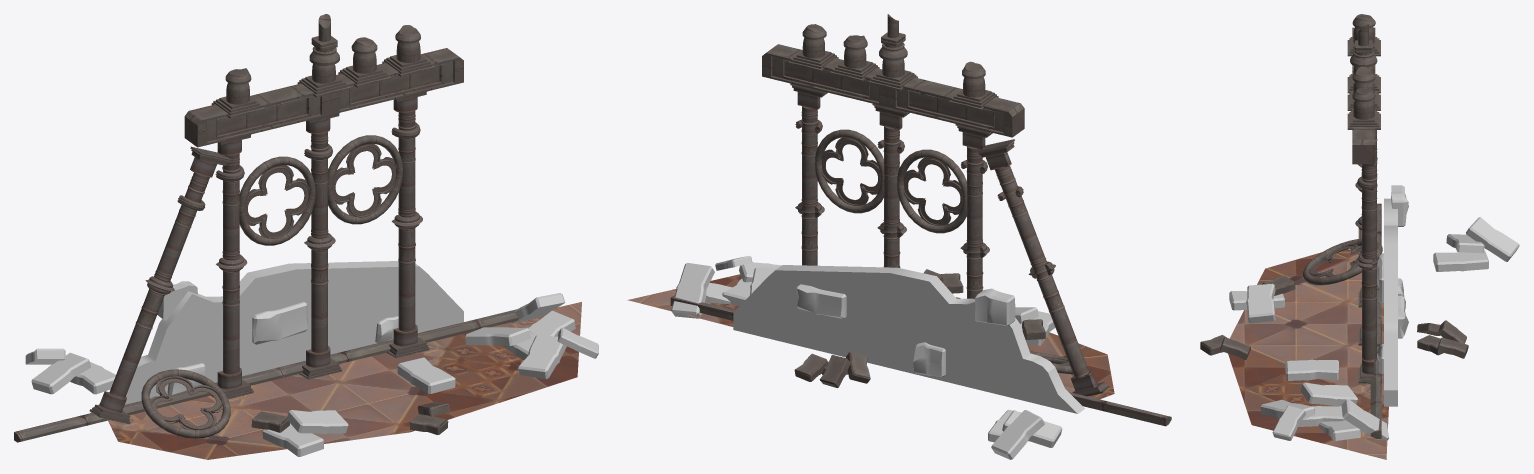
File: ArchitectureSet8.fbx
The picture shows the model from 3 angles, left to right: view 1: azimuth 30°, elevation 25°; view 2: azimuth 150°, elevation 25°; view 3: azimuth 270°, elevation 25°; orthographic projection. The views are drawn at different scales.
Visible parts, largest first — view 1: pPlane6, pasted__pasted__polySurface342, pasted__pasted__pCube131, pasted__pasted__pCylinder56, pasted__pasted__pCylinder55, pasted__pasted__pCylinder53, pasted__pasted__pCube130, pasted__pasted__pCylinder54, pasted__pasted__polySurface355, pasted__pasted__pCube132, pasted__pasted__pCube133, pasted__pasted__pTorus93 (+25 smaller); view 2: pasted__pasted__polySurface342, pasted__pasted__pCube131, pasted__pasted__pCylinder56, pasted__pasted__pCube130, pPlane6, pasted__pasted__pCylinder55, pasted__pasted__pCylinder53, pasted__pasted__pCylinder54, pasted__pasted__pTorus93, pasted__pasted__pTorus95, pCube396, pCube403 (+17 smaller); view 3: pPlane6, pasted__pasted__pCylinder55, pasted__pasted__polySurface342, pasted__pasted__polySurface355, pCube403, pCube394, pCube400, pCube402, pCube391, pasted__pasted__pCube130, pCube396, pasted__pasted__pCube132 (+19 smaller).
Boxes of the visible parts, x1=… form: pPlane6: x1=108, y1=302, x2=581, y2=459; pasted__pasted__polySurface342: x1=90, y1=261, x2=463, y2=413; pasted__pasted__pCube131: x1=184, y1=83, x2=330, y2=147; pasted__pasted__pCylinder56: x1=109, y1=172, x2=209, y2=398; pasted__pasted__pCylinder55: x1=391, y1=111, x2=422, y2=331; pasted__pasted__pCylinder53: x1=216, y1=153, x2=247, y2=374; pasted__pasted__pCube130: x1=330, y1=48, x2=463, y2=114; pasted__pasted__pCylinder54: x1=304, y1=132, x2=335, y2=353; pasted__pasted__polySurface355: x1=141, y1=369, x2=230, y2=438; pasted__pasted__pCube132: x1=275, y1=309, x2=519, y2=376; pasted__pasted__pCube133: x1=14, y1=368, x2=286, y2=442; pasted__pasted__pTorus93: x1=239, y1=156, x2=315, y2=245; pasted__pasted__polySurface342: x1=733, y1=265, x2=1085, y2=413; pasted__pasted__pCube131: x1=887, y1=77, x2=1024, y2=137; pasted__pasted__pCylinder56: x1=994, y1=166, x2=1089, y2=378; pasted__pasted__pCube130: x1=762, y1=44, x2=887, y2=106; pPlane6: x1=627, y1=274, x2=1114, y2=399; pasted__pasted__pCylinder55: x1=795, y1=106, x2=824, y2=265; pasted__pasted__pCylinder53: x1=960, y1=146, x2=989, y2=298; pasted__pasted__pCylinder54: x1=877, y1=126, x2=906, y2=267; pasted__pasted__pTorus93: x1=897, y1=149, x2=966, y2=233; pasted__pasted__pTorus95: x1=815, y1=129, x2=883, y2=213; pCube396: x1=671, y1=263, x2=714, y2=318; pCube403: x1=991, y1=410, x2=1044, y2=459; pPlane6: x1=1228, y1=249, x2=1388, y2=459; pasted__pasted__pCylinder55: x1=1355, y1=161, x2=1377, y2=361; pasted__pasted__polySurface342: x1=1384, y1=198, x2=1397, y2=406; pasted__pasted__polySurface355: x1=1303, y1=238, x2=1382, y2=285; pCube403: x1=1466, y1=217, x2=1519, y2=261; pCube394: x1=1285, y1=359, x2=1338, y2=380; pCube400: x1=1246, y1=283, x2=1275, y2=323; pCube402: x1=1433, y1=251, x2=1488, y2=271; pCube391: x1=1300, y1=382, x2=1358, y2=405; pasted__pasted__pCube130: x1=1352, y1=90, x2=1375, y2=164; pCube396: x1=1341, y1=399, x2=1389, y2=440; pasted__pasted__pCube132: x1=1370, y1=316, x2=1381, y2=438.
Size of the model in its own units: 929 by 572 by 508.
